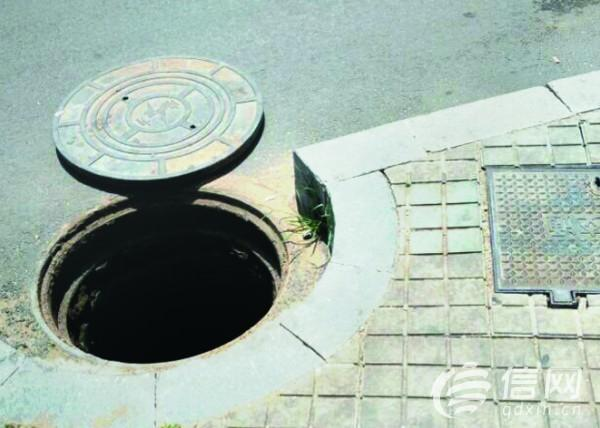uncovered: (23, 36, 298, 373)
